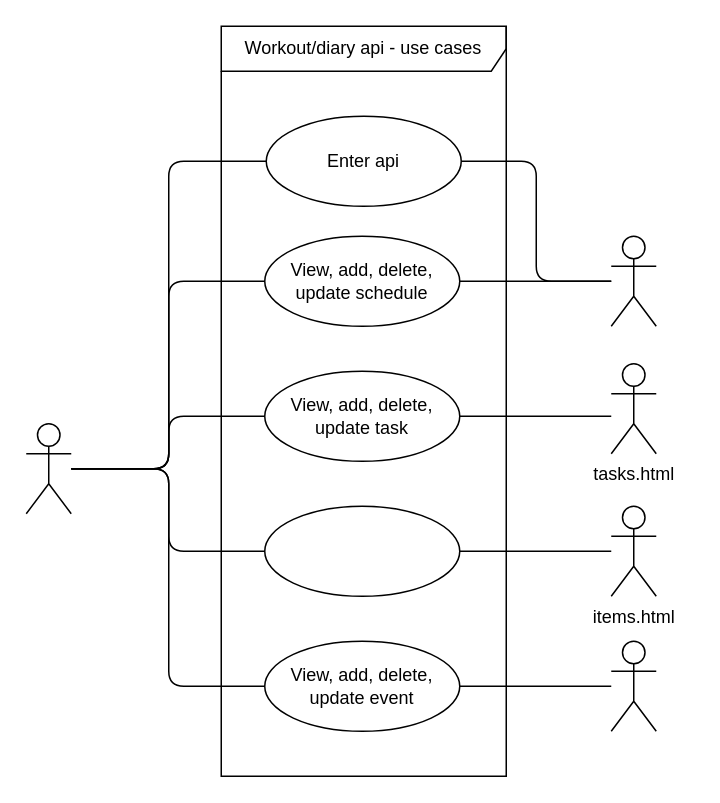
This 720x803 diagram has some shape labels left out. The centre of each missing label's shape, as x and y in pixels:
events.html: the point at 633,685
schedules.html: the point at 633,280
User: the point at 48,468
View, add, delete, update item: the point at 361,550
